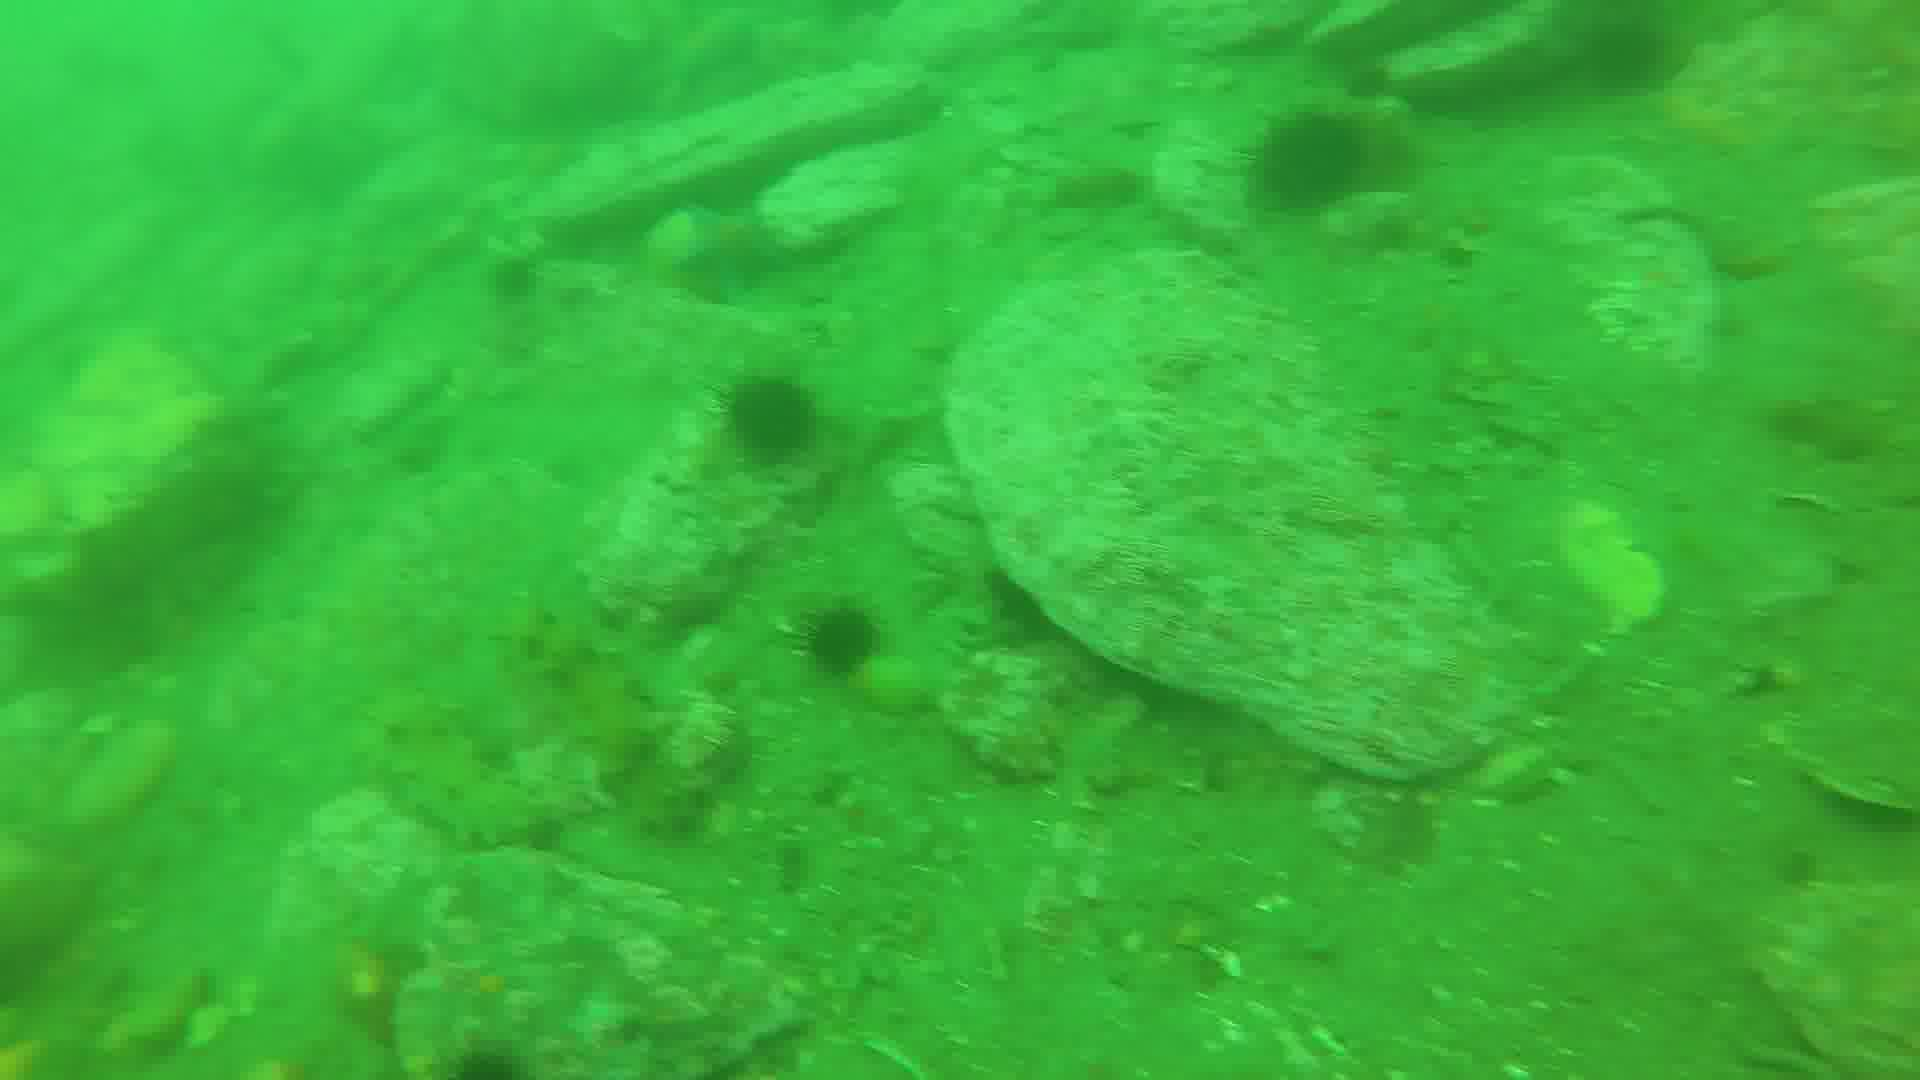echinus: (1253, 112, 1375, 212), (733, 371, 825, 465), (806, 597, 885, 676)
holothurian: (369, 694, 542, 852), (506, 608, 658, 771)
